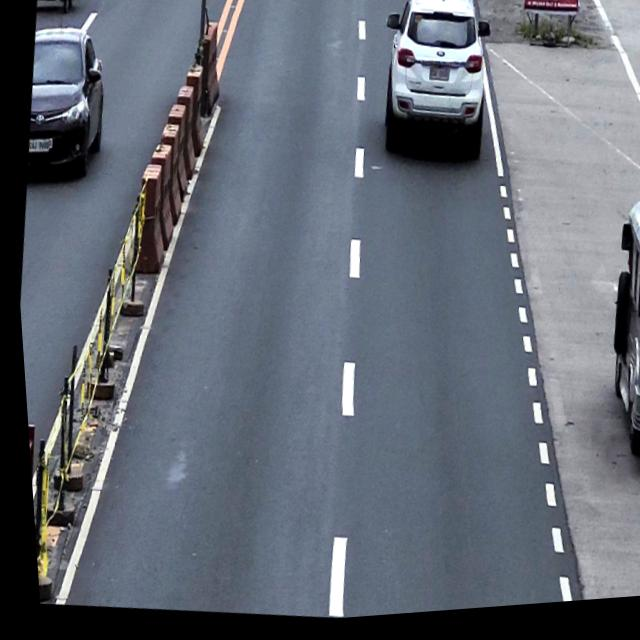Car: (368, 0, 501, 170), (17, 19, 114, 183)
Jeep: (586, 199, 640, 467)
License-Plate: (425, 69, 450, 91), (26, 135, 53, 155)
Tricycle: (35, 0, 85, 20)
